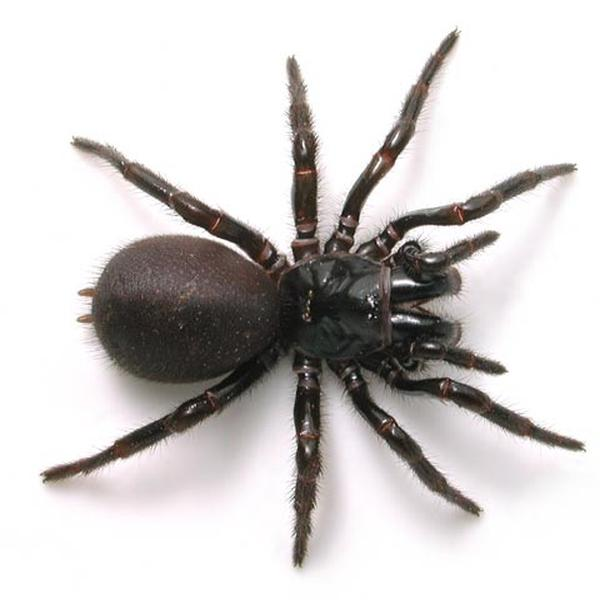Funnel Web Spider: (41, 35, 582, 550)
